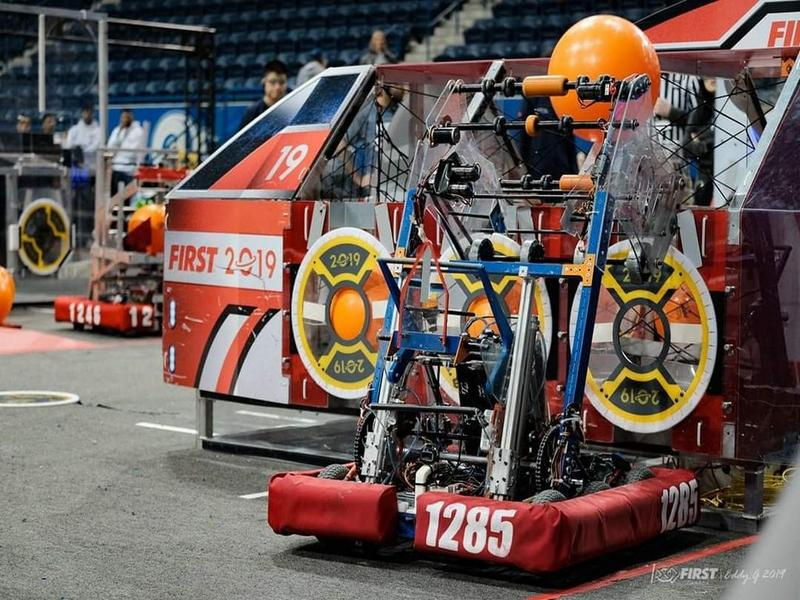robot: (274, 71, 707, 572), (58, 154, 173, 333)
